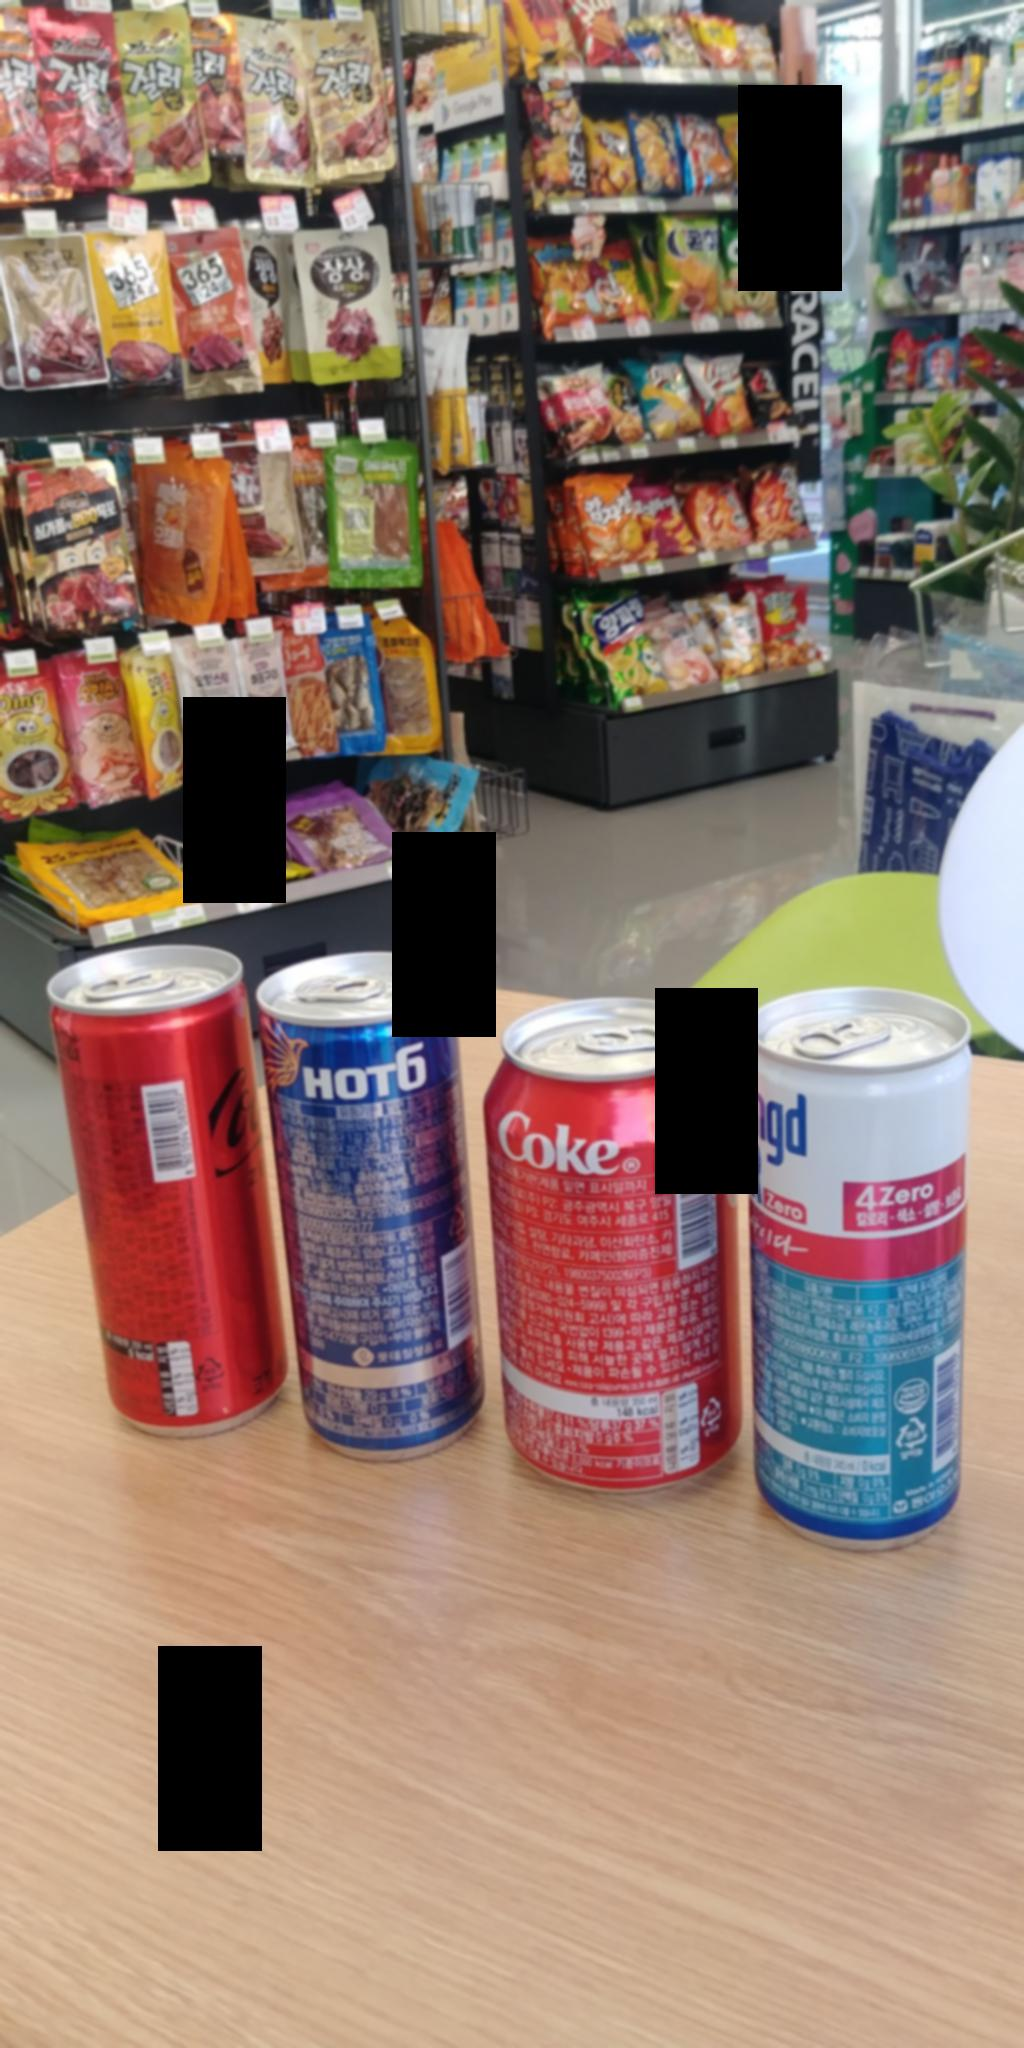cocacola: (479, 994, 741, 1499)
hotsix_org: (268, 950, 481, 1467)
narangdcider: (741, 980, 987, 1566)
